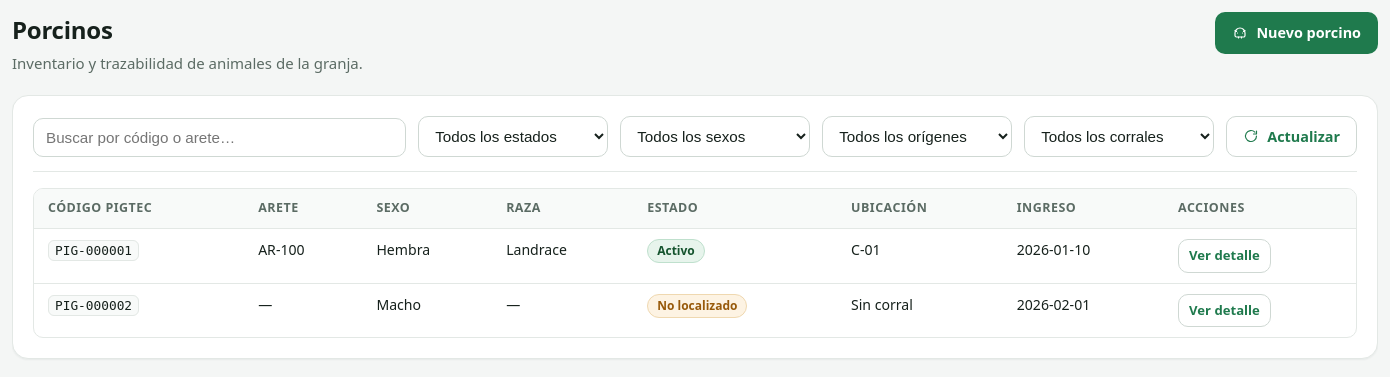
Test: AnimalsPage: listado › filtra por texto (código o arete) y por estado
Expected: the text "PIG-000001" is shown, [48, 240, 139, 261]
Type "AR-100" into the search field named "Buscar porcino" at (220, 138), box [33, 118, 406, 157]
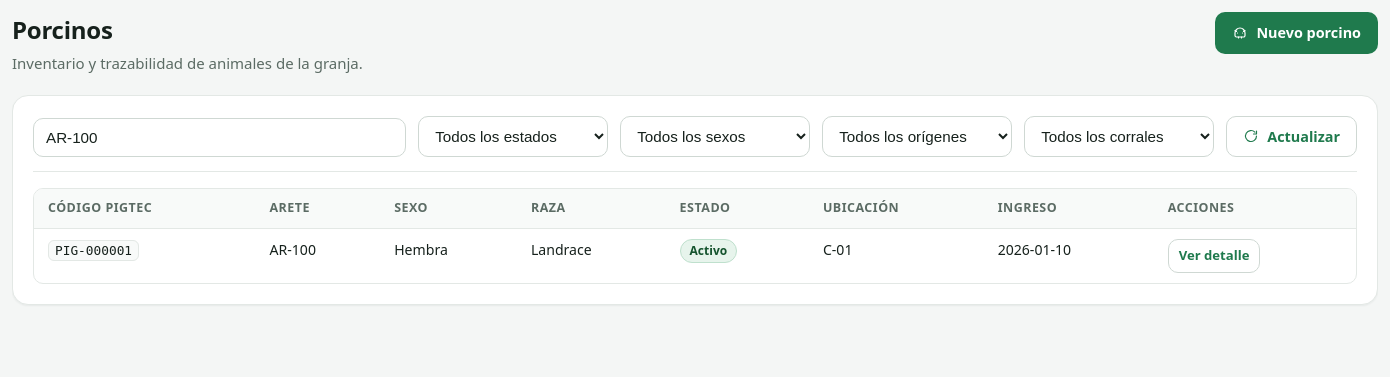
Expected: the text "PIG-000001" is shown, [48, 240, 139, 261]
Expected: the text "PIG-000002" is gone
Clear the search field named "Buscar porcino" at (220, 138), box [33, 118, 406, 157]
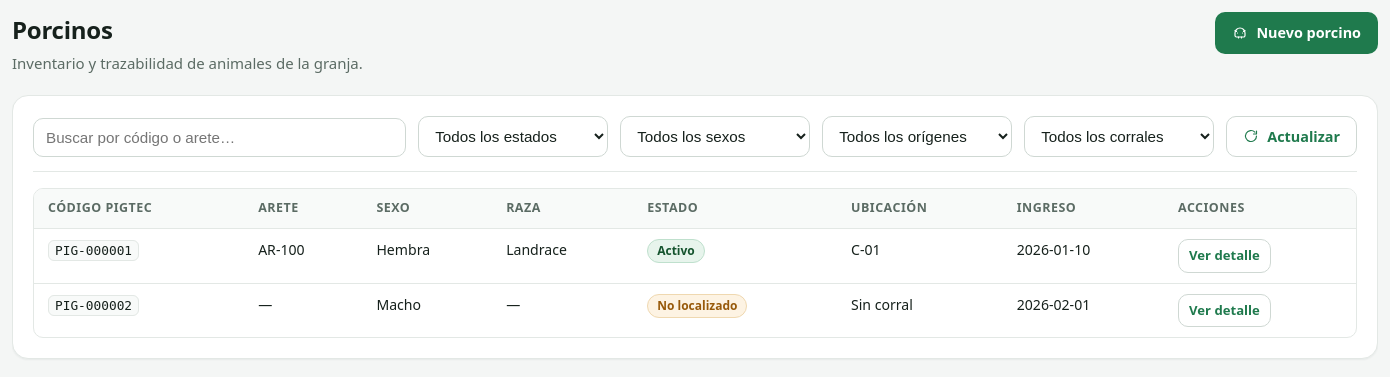
Select "No localizado" in the 1st dropdown named "Filtrar por estado" at (513, 137), box [418, 116, 608, 157]
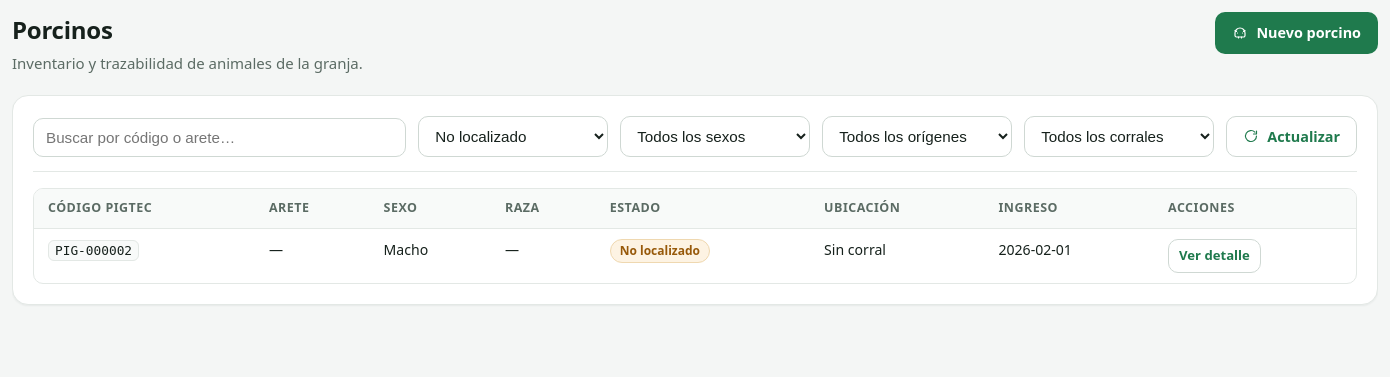
Expected: the text "PIG-000002" is shown, [48, 240, 139, 261]
Expected: the text "PIG-000001" is gone
